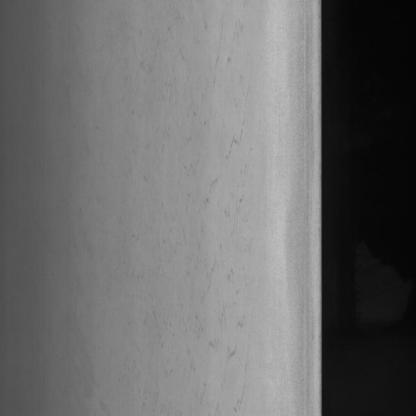silk_spot: (166, 126, 256, 411)
